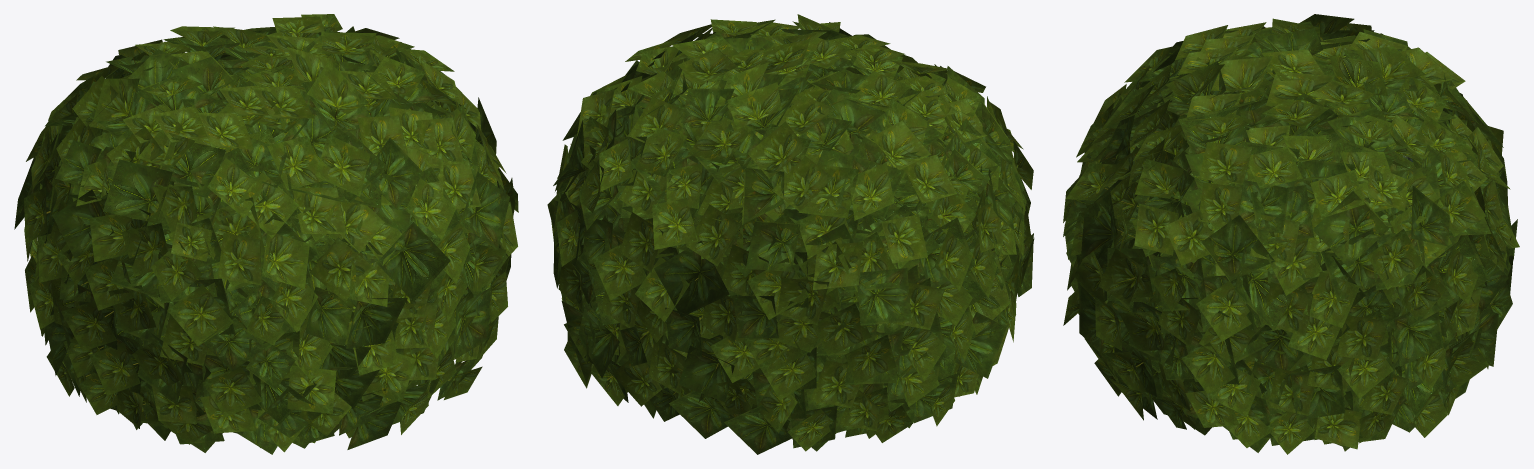
File: Plantb.fbx
The picture shows the model from 3 angles, left to right: view 1: azimuth 30°, elevation 25°; view 2: azimuth 150°, elevation 25°; view 3: azimuth 270°, elevation 25°; orthographic projection. The views are drawn at different scales.
Visible parts, largest first — view 1: LODGroup_1_MainMesh_1_SubMesh_1; view 2: LODGroup_1_MainMesh_1_SubMesh_1; view 3: LODGroup_1_MainMesh_1_SubMesh_1.
Part boxes in pixels (x1,y1,x2,y2): LODGroup_1_MainMesh_1_SubMesh_1: [14, 14, 518, 454]; LODGroup_1_MainMesh_1_SubMesh_1: [547, 14, 1034, 454]; LODGroup_1_MainMesh_1_SubMesh_1: [1063, 14, 1519, 454].
Size of the model in its own units: 219 by 169 by 206.
